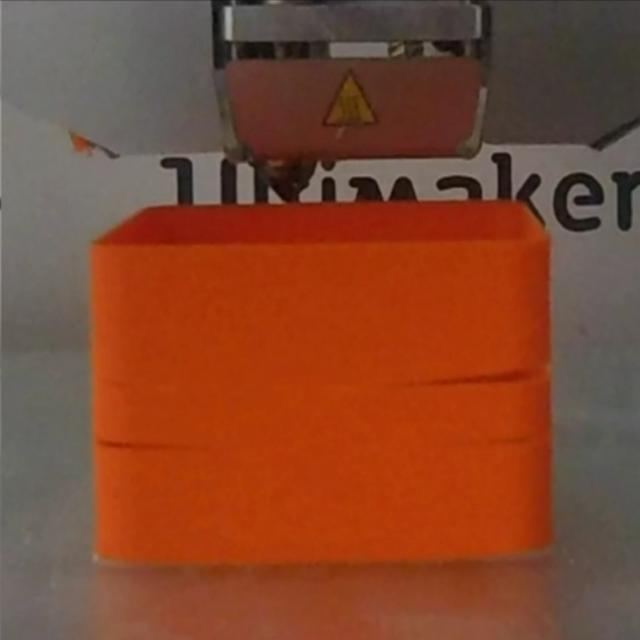Warping: (401, 324, 581, 405), (57, 416, 215, 477)
